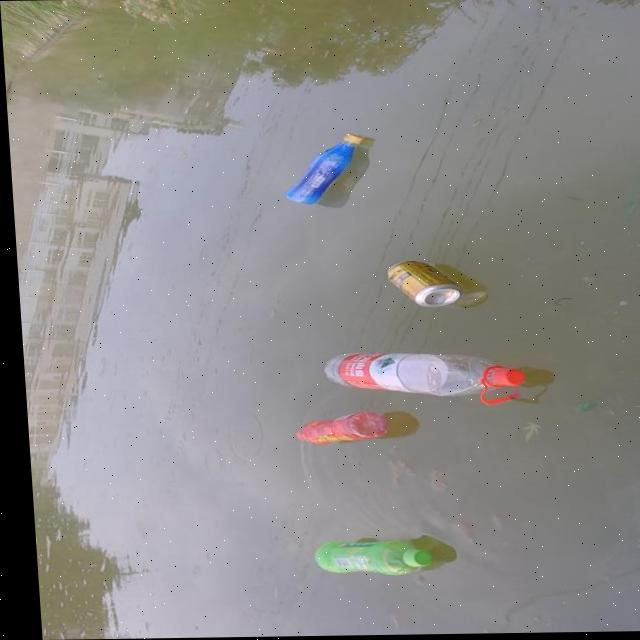bottle: (313, 331, 525, 412), (249, 108, 386, 224), (301, 526, 436, 584), (281, 405, 386, 456)
